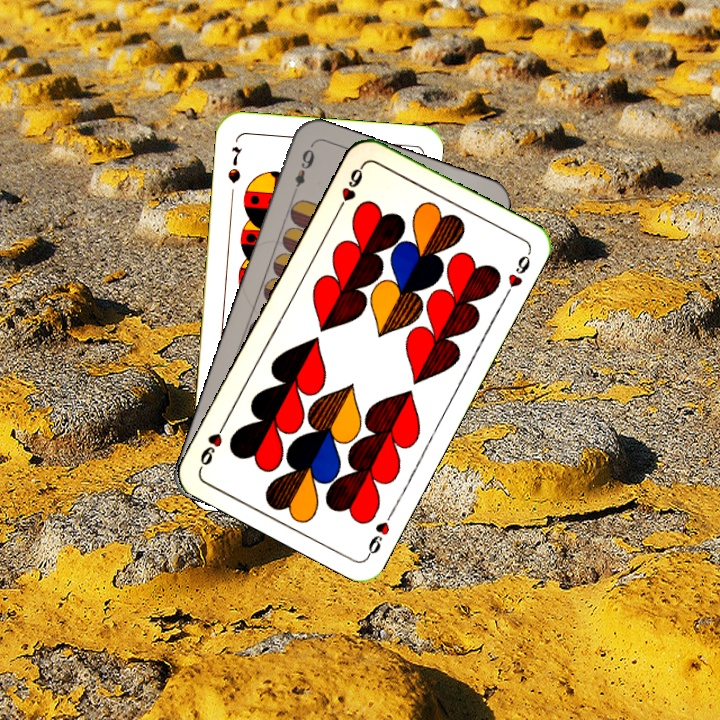E9: (289, 142, 318, 199)
H9: (333, 160, 367, 215), (363, 505, 397, 559)
S7: (224, 142, 244, 186)
